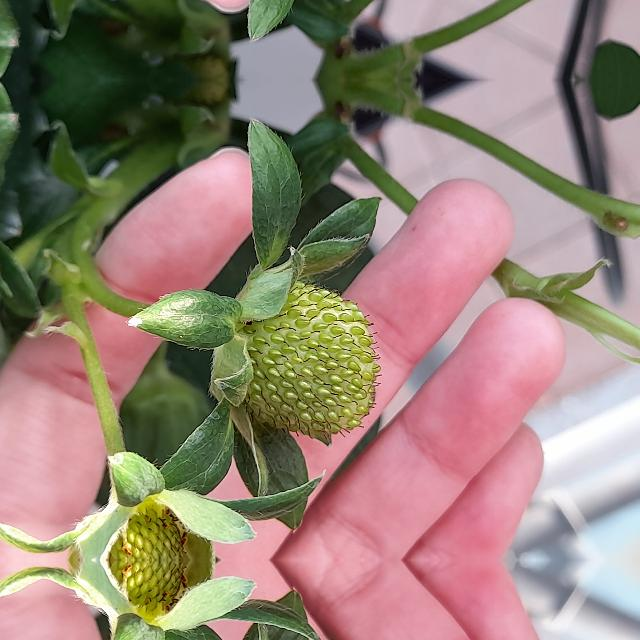Health_25: (238, 279, 382, 439)
